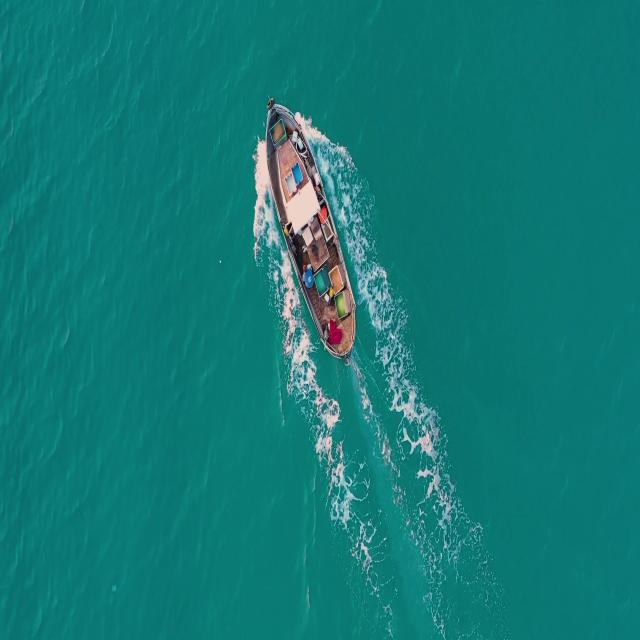ship: (263, 89, 359, 357)
